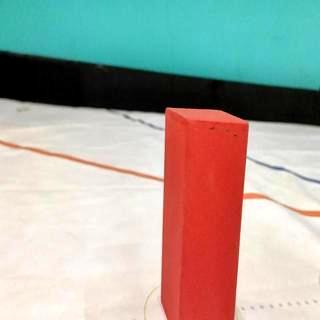redbox: (158, 107, 250, 320)
